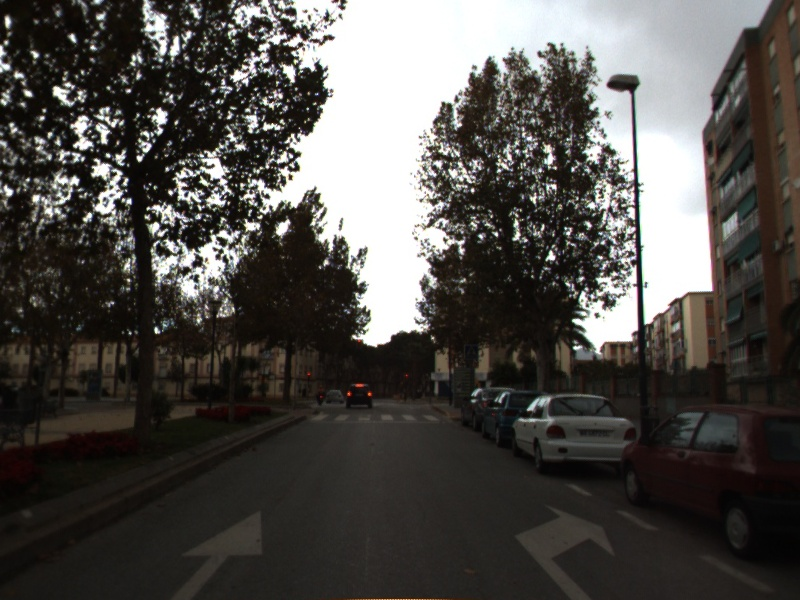RIGHT: (510, 500, 620, 600)
STRAIGHT: (167, 504, 266, 600)
